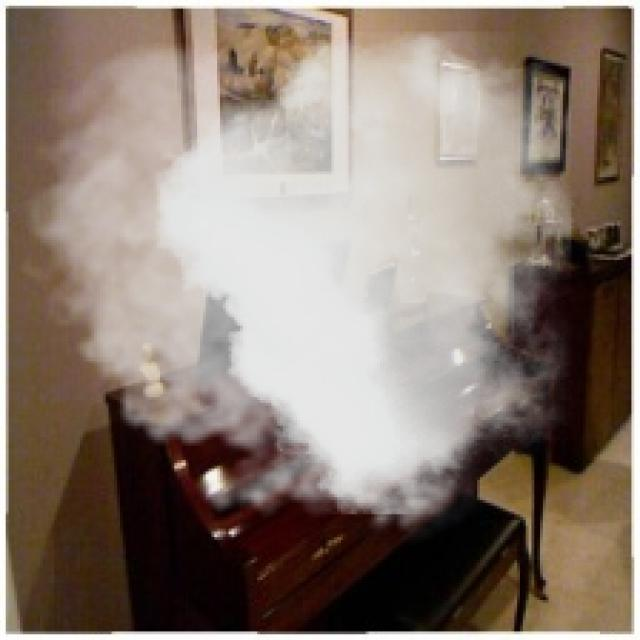smoke: (9, 31, 572, 546)
